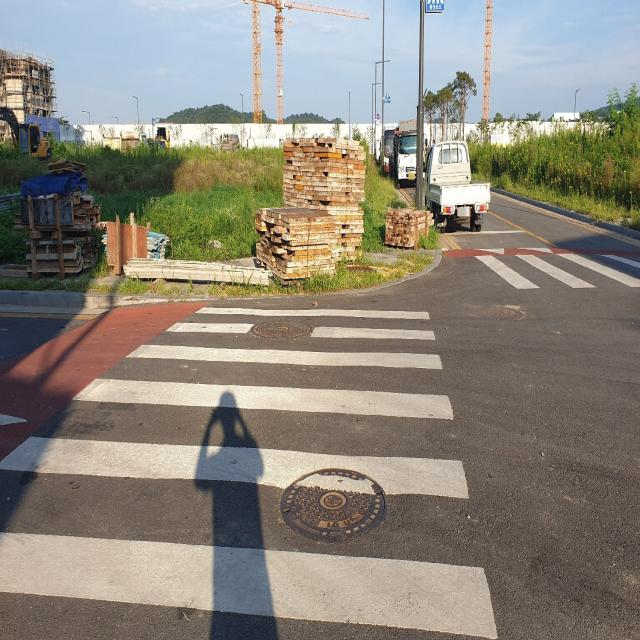횡단보도: (0, 300, 502, 640), (470, 241, 640, 298)
